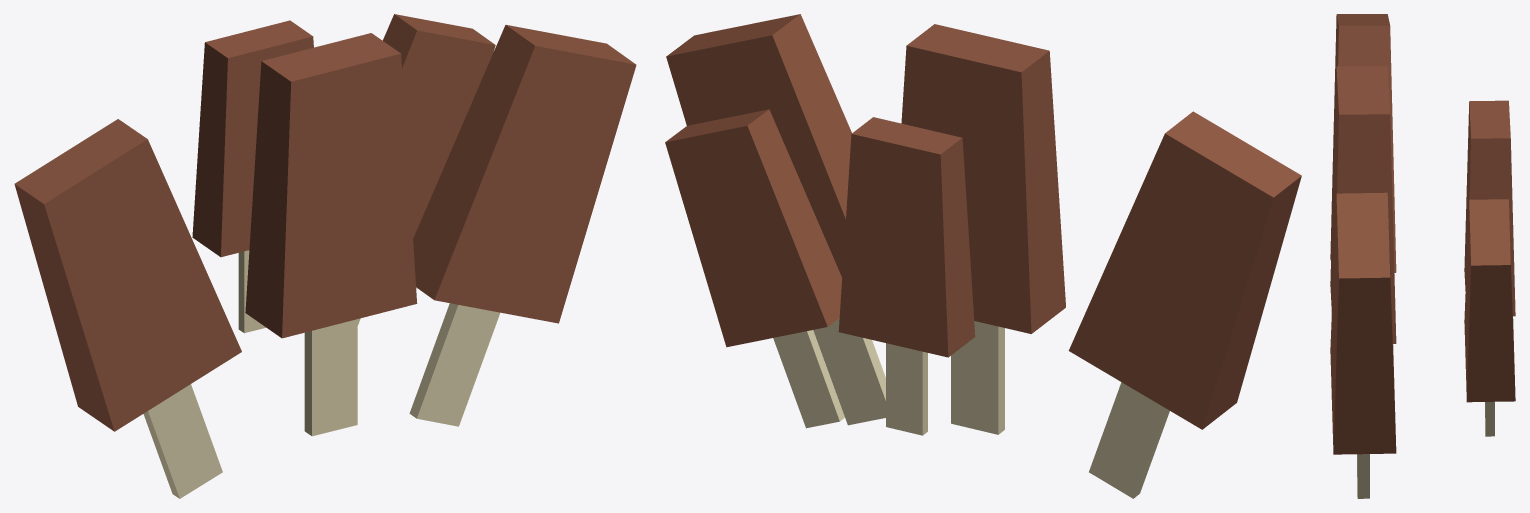
File: icecream.glb
3 renders of one model, left to right at view 1: azimuth 30°, elevation 25°; view 2: azimuth 150°, elevation 25°; view 3: azimuth 270°, elevation 25°, orthographic. The views are drawn at different scales.
Visible parts, largest first — view 1: icecream; view 2: icecream; view 3: icecream.
Part boxes in pixels (x1,y1,x2,y2): icecream: (14,14,636,498); icecream: (665,14,1301,498); icecream: (1330,14,1515,498).
Size of what is drawn, in the model's own units: 6.39 by 4.12 by 1.93.
1 material, 1 textured.
